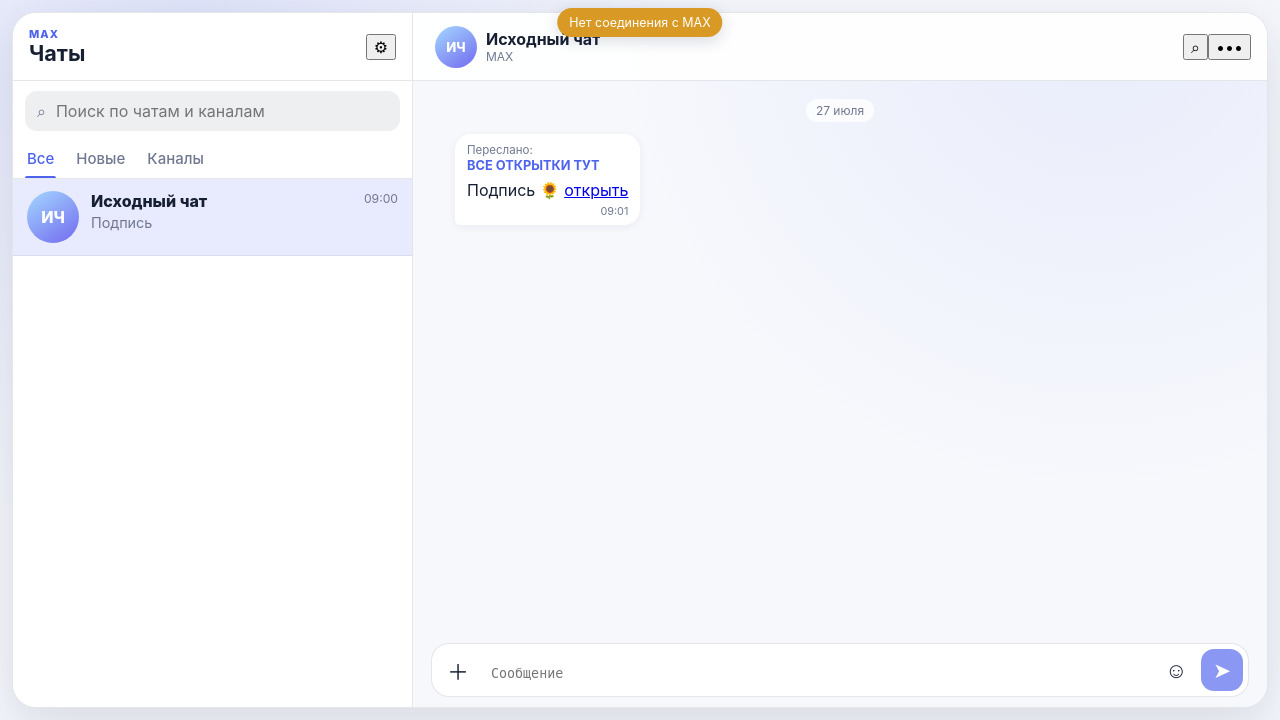
Scenario: ConnectedMessenger startup › returns to the original chat when a forwarded source is unavailable
The width and height of the screenshot is (1280, 720).
Click the button "ВСЕ ОТКРЫТКИ ТУТ" at (548, 166), box [467,158,628,173]
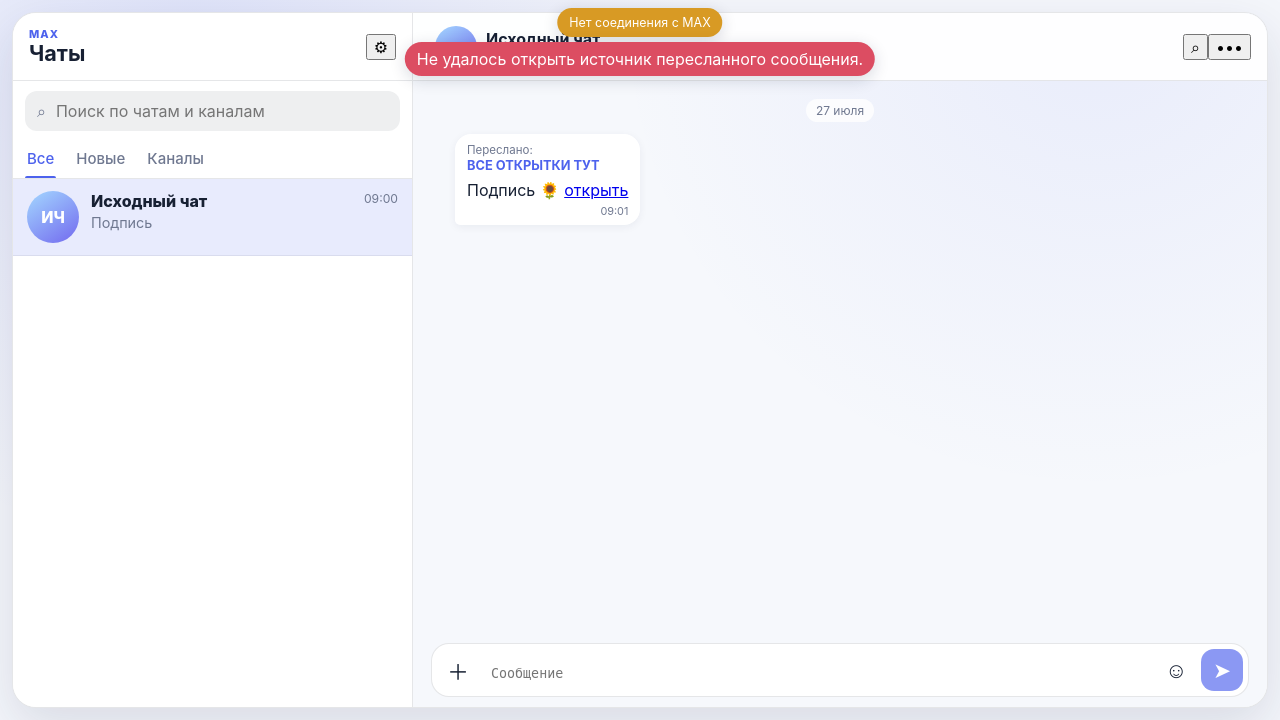
Expected: the element "ВСЕ ОТКРЫТКИ ТУТ" shows "Подпись 🌻 открыть", [455,134,640,225]
Expected: the message "Не удалось открыть источник пересланного сообщения." is shown, [405,42,875,76]
